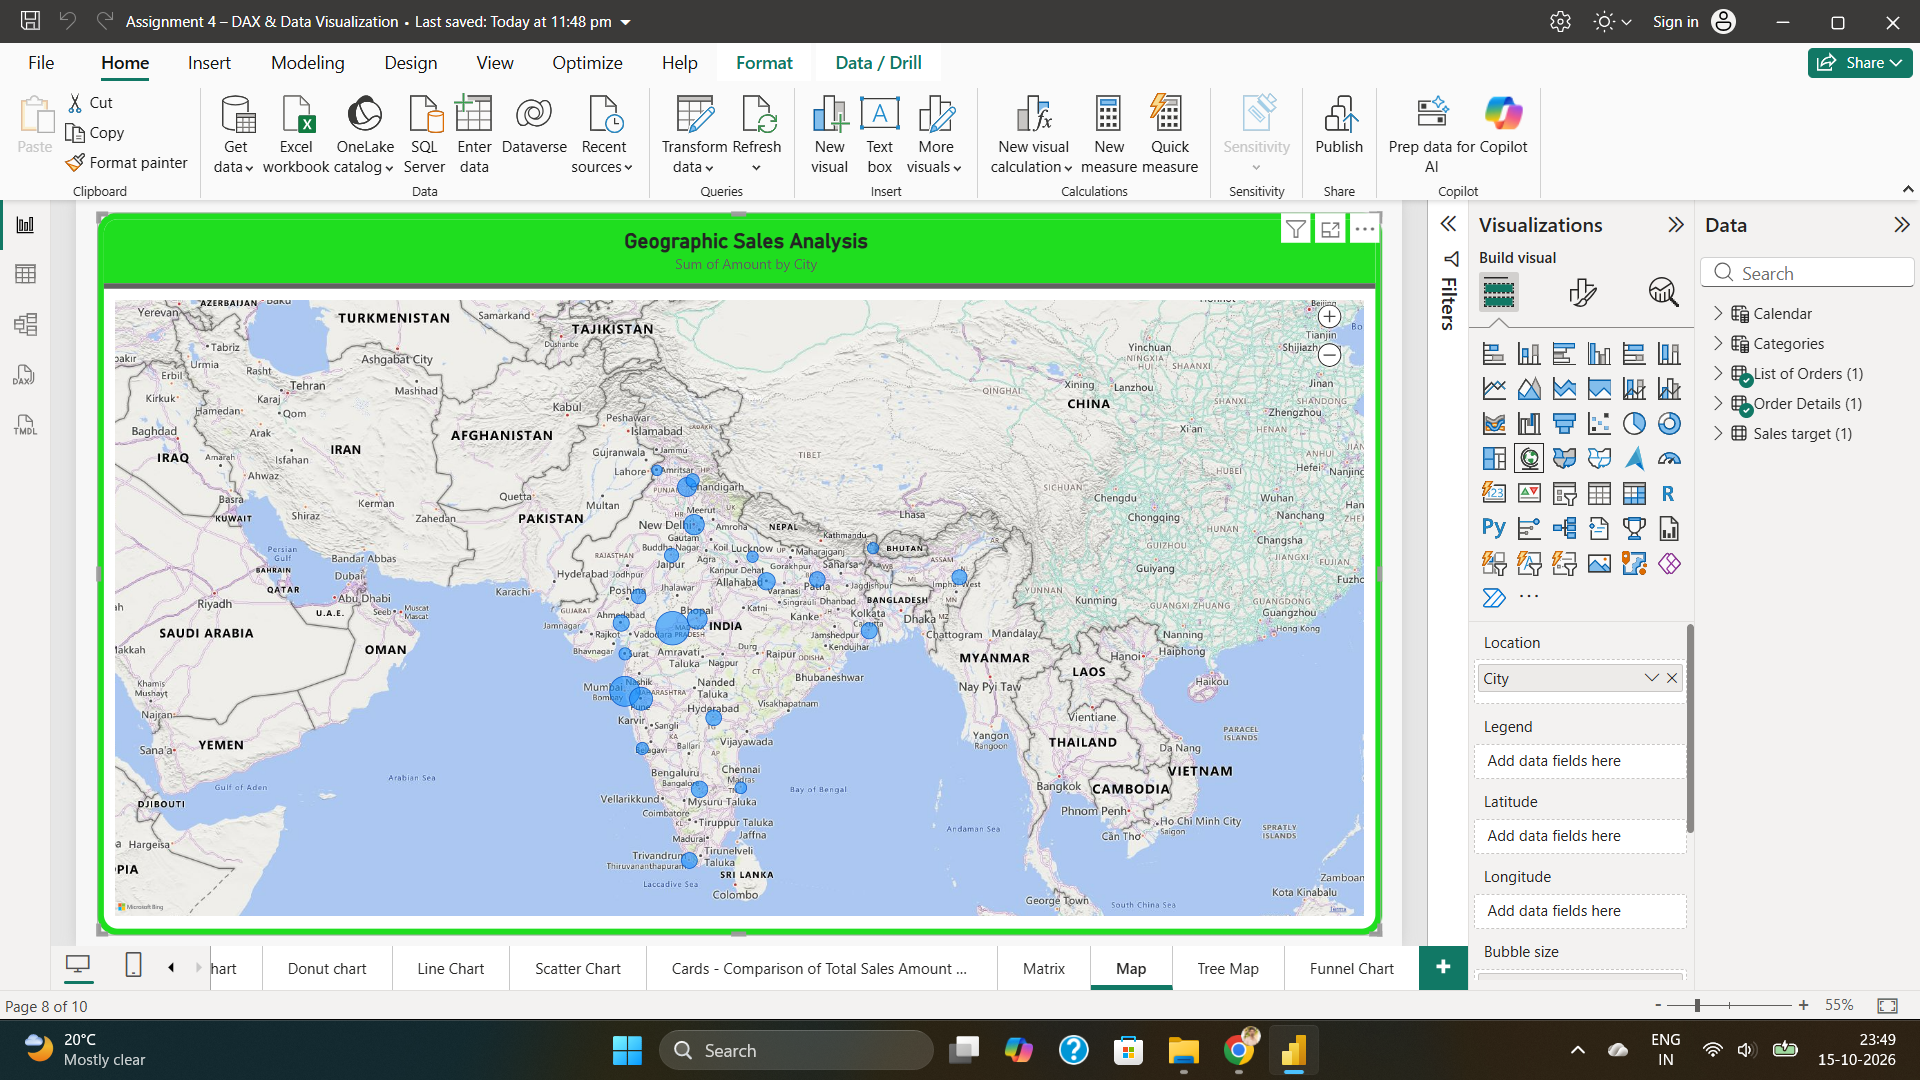

The page's visual inventory and layout, read from the dashboard file:
{"tool":"powerbi","page":{"name":"Map","canvas":[1920,1080],"ordinal":7},"visuals":[{"type":"map","title":"Geographic Sales Analysis","fields":{"Category":["List of Orders (1).City"],"Size":["Sum(Order Details (1).Amount)"]},"box":[30,18,1860,1046],"z":0}]}

Visuals, with their boxes on the page's 1920x1080 design canvas (x1, y1, x2, y2). These are canvas units, not pixel positions in the 1920x1080 screenshot, which may show the page scaled, cropped or inside an application window:
"Geographic Sales Analysis" map: bbox=(30, 18, 1890, 1064)
